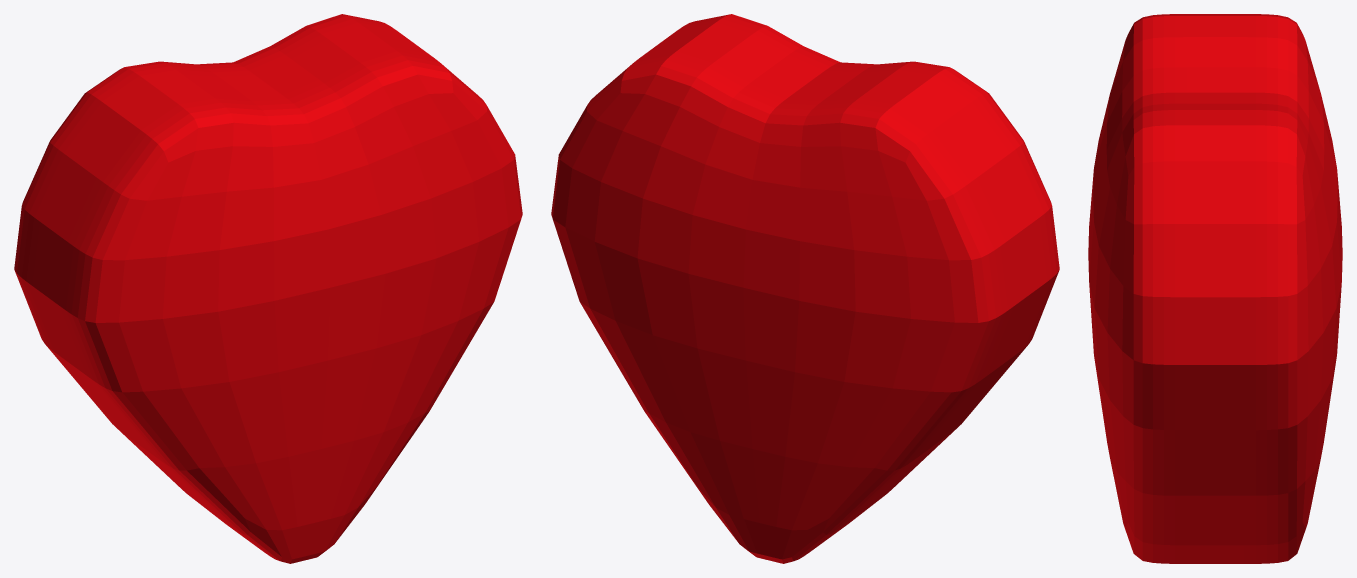
File: heart.fbx
3 views of the same model, side by side, from view 1: azimuth 30°, elevation 25°; view 2: azimuth 150°, elevation 25°; view 3: azimuth 270°, elevation 25° (orthographic). The views are drawn at different scales.
Visible parts, largest first — view 1: Cube; view 2: Cube; view 3: Cube.
Part boxes in pixels (box(x1,y1,x2,y2)): Cube: box(14, 14, 522, 563); Cube: box(551, 14, 1059, 563); Cube: box(1088, 14, 1342, 563).
Bounding box in the file's own units: 195 × 199 × 94.03.
